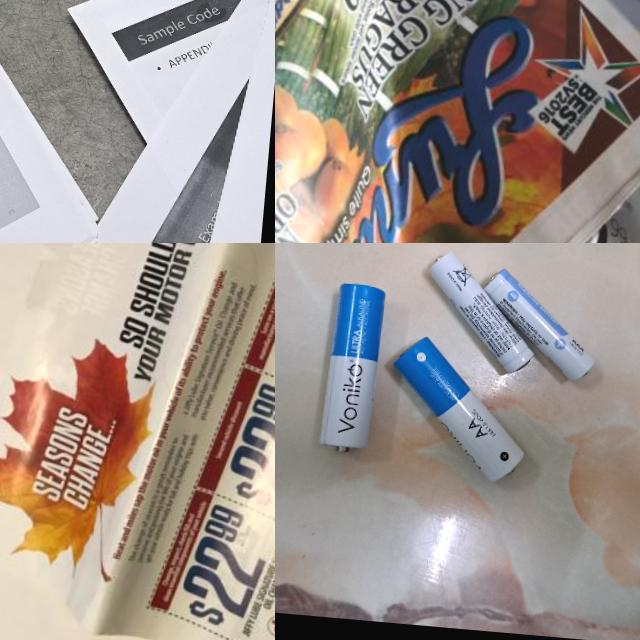bateria: (382, 332, 534, 487), (419, 246, 543, 372), (476, 265, 600, 383), (316, 280, 386, 454)
papel: (0, 243, 275, 640), (275, 0, 640, 243), (40, 0, 275, 243), (0, 0, 114, 243)
